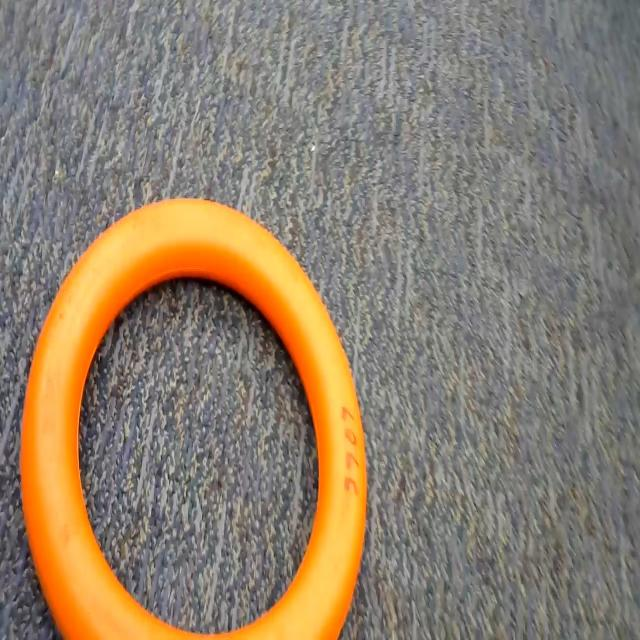note: (13, 177, 386, 640)
